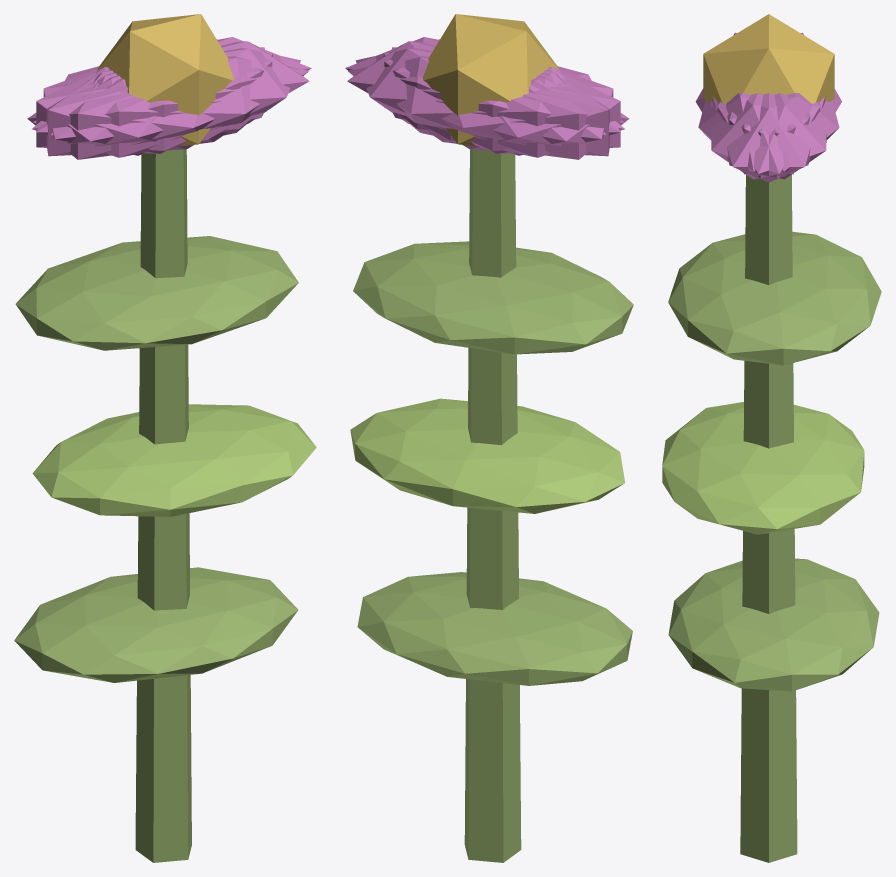
File: tradescantia-spathacea.glb
3 renders of one model, left to right at view 1: azimuth 30°, elevation 25°; view 2: azimuth 150°, elevation 25°; view 3: azimuth 270°, elevation 25°, orthographic.
Visible parts, largest first — view 1: stem, leaf2, leaf1, leaf0, center, petal1, petal6, petal2, petal5, petal7, petal0, petal4 (+2 smaller); view 2: stem, leaf2, leaf0, leaf1, center, petal8, petal3, petal7, petal4, petal2, petal0, petal5 (+2 smaller); view 3: stem, leaf2, leaf1, leaf0, center, petal0, petal4, petal5, petal1, petal8.
Part boxes in pixels (x1,y1,x2,y2): stem: (135,149,191,862); leaf2: (15,236,298,350); leaf1: (32,404,316,516); leaf0: (14,567,298,682); center: (97,14,233,146); petal1: (32,56,308,157); petal6: (27,68,227,159); petal2: (46,47,264,156); petal5: (50,48,300,150); petal7: (36,53,272,153); petal0: (97,41,309,140); petal4: (33,37,311,132); stem: (464,149,521,862); leaf2: (353,241,633,354); leaf0: (357,572,632,685); leaf1: (350,398,625,513); center: (423,14,559,146); petal8: (348,56,624,157); petal3: (428,68,629,159); petal7: (391,47,609,156); petal4: (355,48,605,150); petal2: (383,53,620,153); petal0: (347,41,559,140); petal5: (345,37,623,132); stem: (740,174,797,862); leaf2: (668,231,881,365); leaf1: (662,402,864,534); leaf0: (668,558,879,691); center: (703,14,834,103); petal0: (712,93,825,182); petal4: (717,93,826,179); petal5: (711,93,820,179); petal1: (698,93,810,171); petal8: (727,93,839,171).
Bounding box in the file's own units: 0.1452 × 0.4215 × 0.1024.
